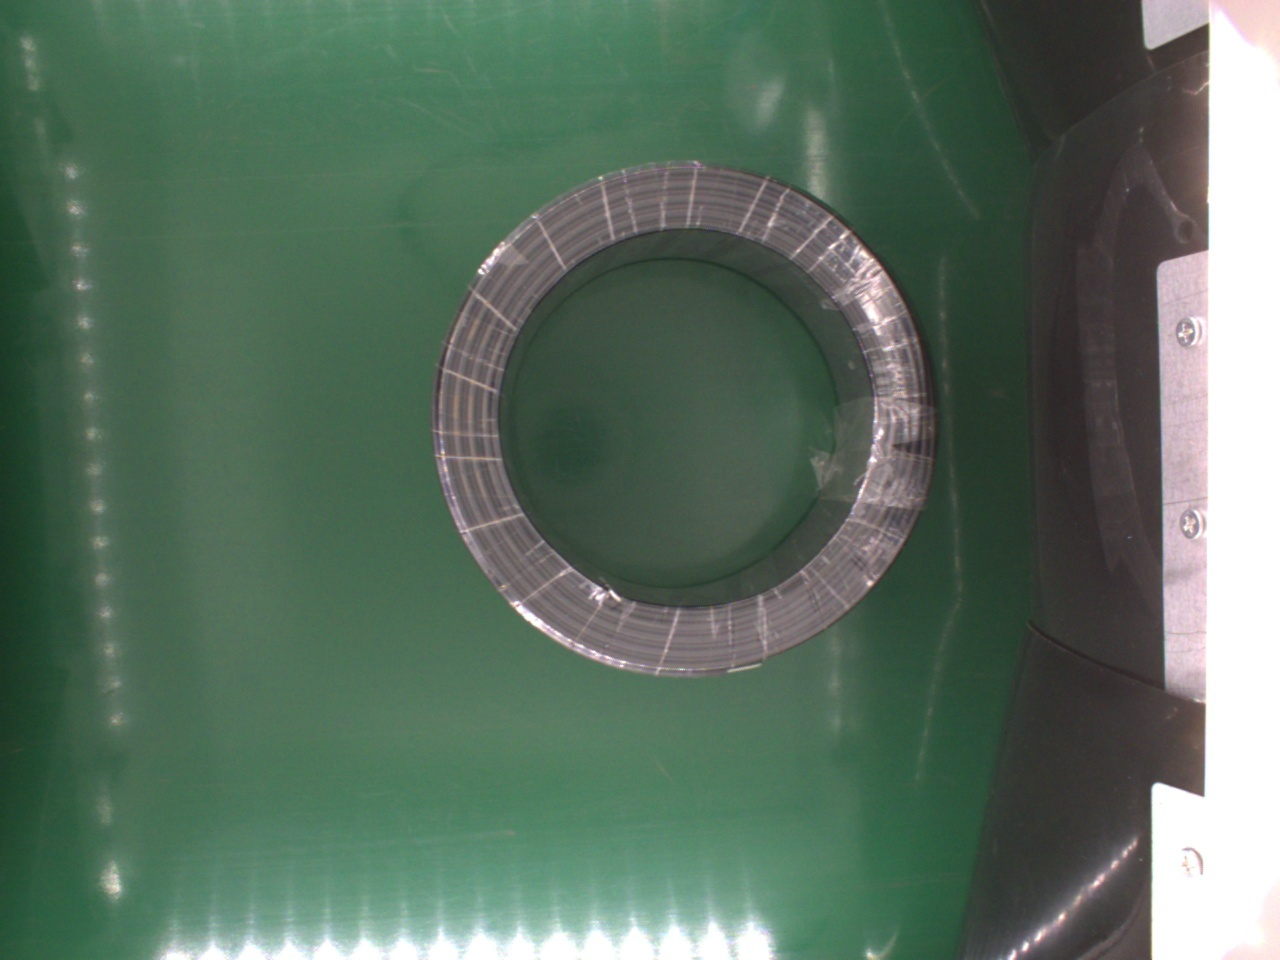black: (427, 160, 934, 677)
